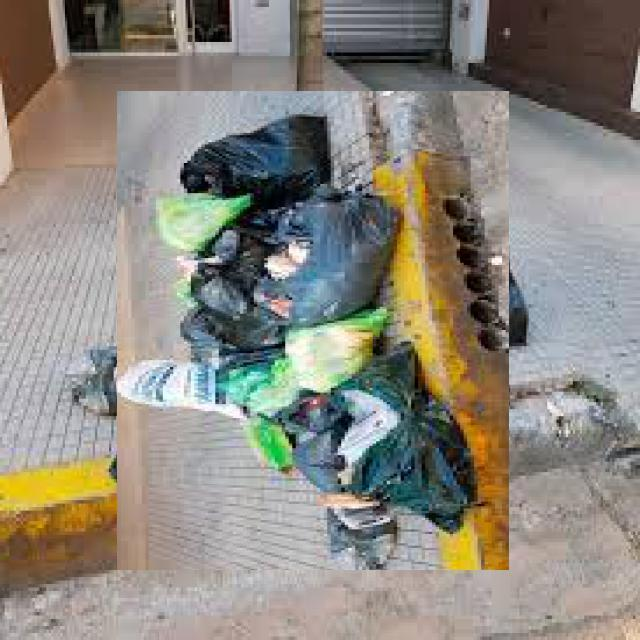Trashbag: (276, 189, 411, 329), (360, 410, 475, 532), (195, 100, 332, 200), (272, 384, 341, 501), (195, 213, 281, 304), (177, 293, 286, 359), (354, 337, 426, 422), (322, 497, 398, 571)
